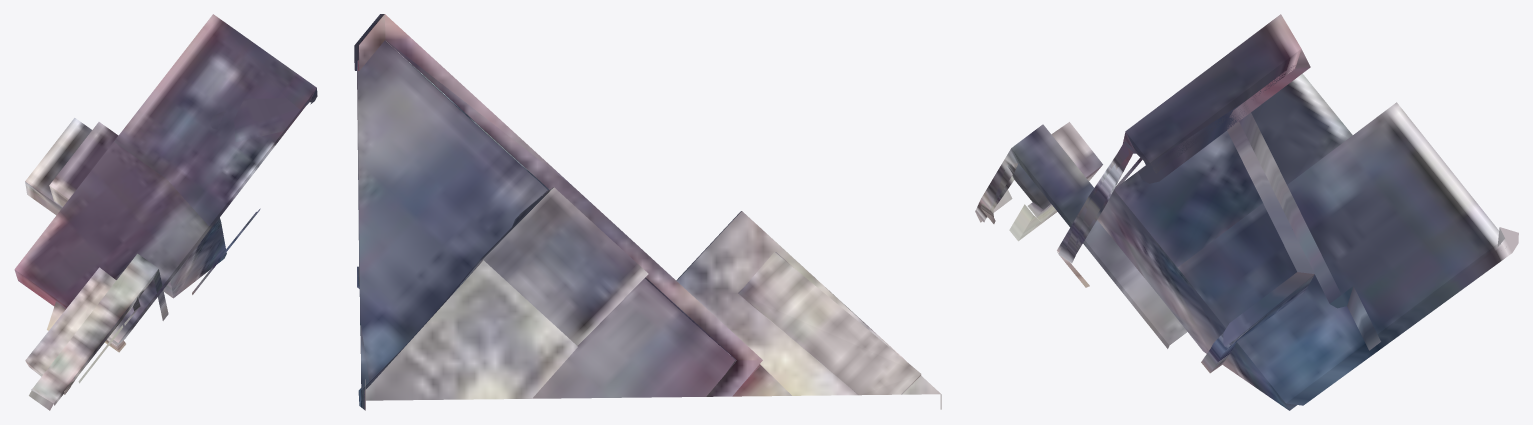
3 views of the same model, side by side, from view 1: azimuth 30°, elevation 25°; view 2: azimuth 150°, elevation 25°; view 3: azimuth 270°, elevation 25° (orthographic). The views are drawn at different scales.
Size of the model in its own units: 18.06 by 13.39 by 16.29.
1 material, 1 textured.
